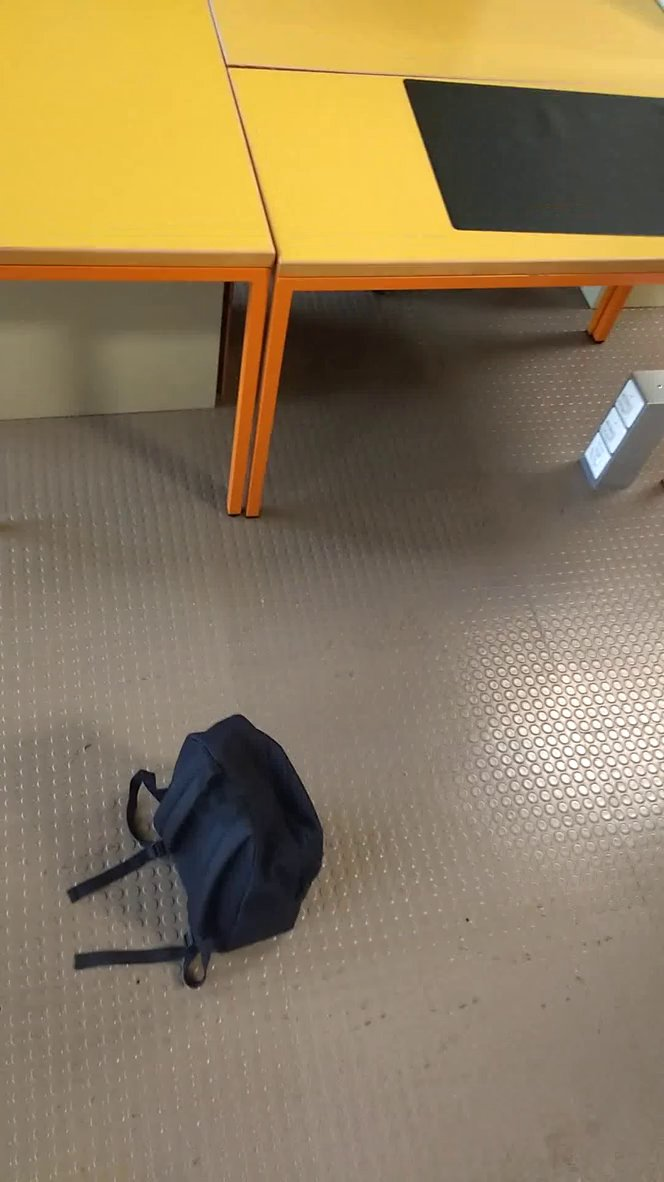bag: (60, 702, 348, 1008)
